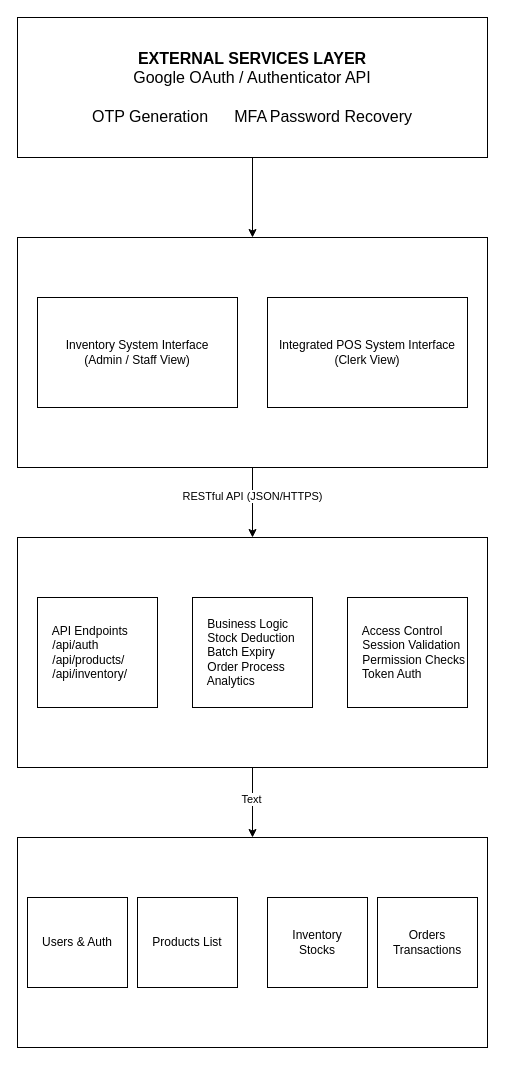
This 505x1065 diagram has some shape labels left out. The box of each missing label's shape, as (x1, y1, x2, y2) in pixels:
APPLICATION LAYER Technologies used: Django + Django REST Framework: (16, 536, 488, 768)
DATABASE LAYER Technologies used: PostgreSQL: (16, 836, 488, 1048)
PRESENTATION LAYER Technologies used: HTML / CSS / Boostrap / JavaScript: (16, 236, 488, 468)
